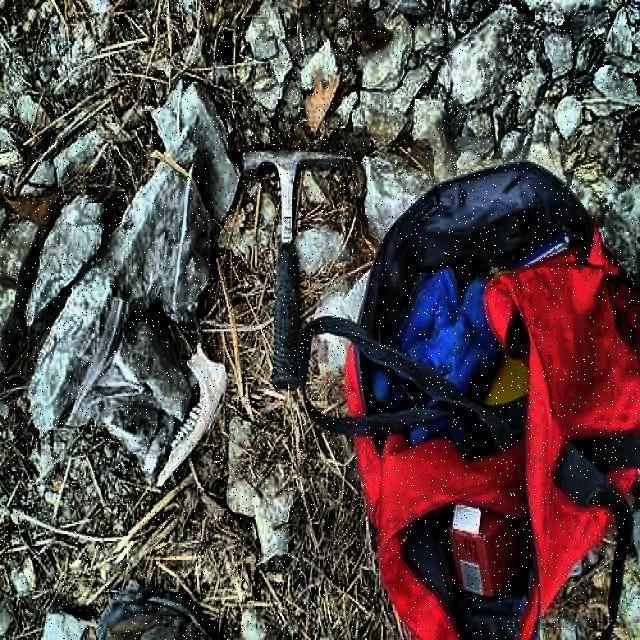hammer: (243, 148, 354, 384)
